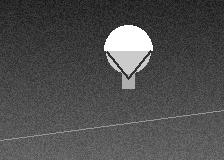helmet: (104, 25, 152, 78)
